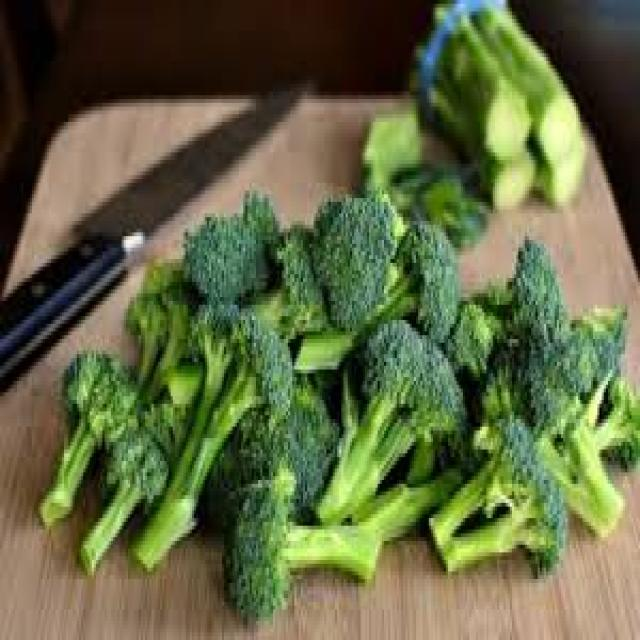broccoli: (32, 175, 640, 640)
